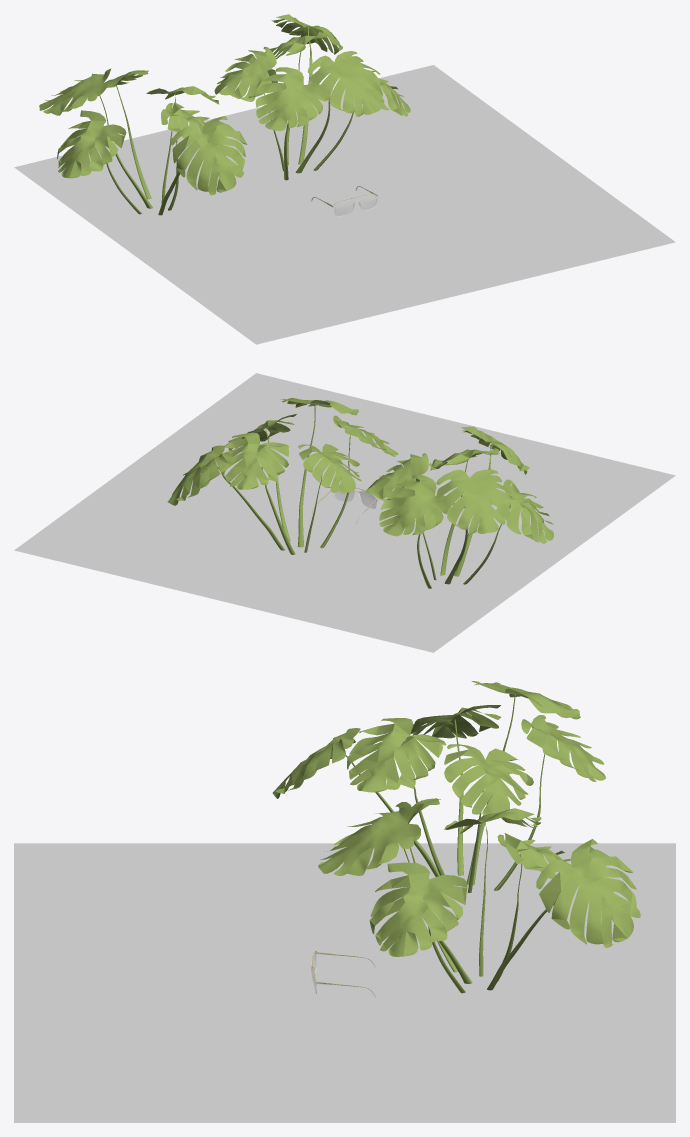
File: Glasses_Morpher.glb
3 renders of one model, top to bottom at view 1: azimuth 30°, elevation 25°; view 2: azimuth 150°, elevation 25°; view 3: azimuth 270°, elevation 25°, orthographic. The views are drawn at different scales.
Parts seen in each view (by area): view 1: Plane.002, leave_1_2, leave_1_2.001; view 2: Plane.002, leave_1_2.001, leave_1_2; view 3: Plane.002, leave_1_2, leave_1_2.001.
Part boxes in pixels (x1=…): Plane.002: x1=14, y1=65, x2=675, y2=344; leave_1_2: x1=214, y1=14, x2=410, y2=180; leave_1_2.001: x1=39, y1=68, x2=247, y2=215; Plane.002: x1=14, y1=373, x2=675, y2=652; leave_1_2.001: x1=365, y1=426, x2=553, y2=588; leave_1_2: x1=167, y1=398, x2=398, y2=554; Plane.002: x1=14, y1=843, x2=675, y2=1122; leave_1_2: x1=318, y1=798, x2=640, y2=993; leave_1_2.001: x1=272, y1=681, x2=605, y2=892.
Size of the model in its own units: 1.51 by 0.5251 by 1.4.
5 materials, 1 textured.
